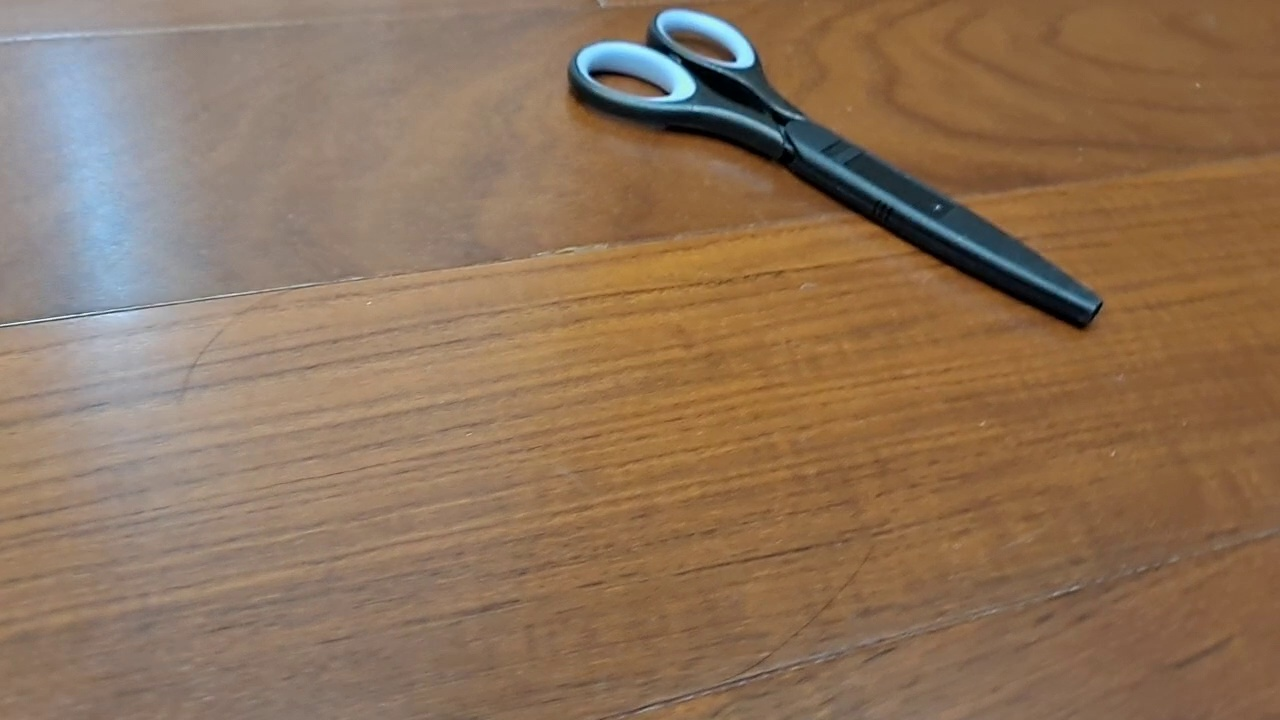scissors: (566, 5, 1106, 331)
